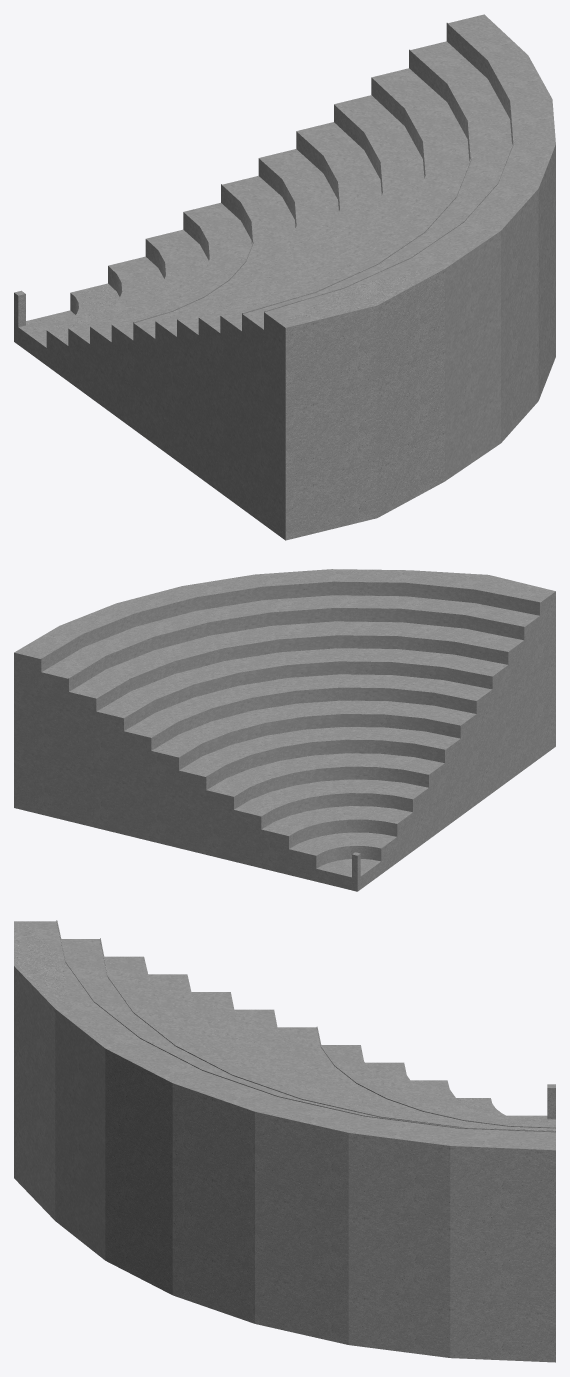
Rendered from SM_StairChairCorner-Reimp.fbx.
3 renders of one model, top to bottom at view 1: azimuth 30°, elevation 25°; view 2: azimuth 150°, elevation 25°; view 3: azimuth 270°, elevation 25°, orthographic. The views are drawn at different scales.
Visible parts, largest first — view 1: SM_StairChairCorner_LOD0; view 2: SM_StairChairCorner_LOD0; view 3: SM_StairChairCorner_LOD0.
Part boxes in pixels (x1,y1,x2,y2): SM_StairChairCorner_LOD0: [14, 14, 555, 540]; SM_StairChairCorner_LOD0: [14, 569, 555, 891]; SM_StairChairCorner_LOD0: [14, 920, 555, 1362].
Bounding box in the file's own units: 12.5 × 5.42 × 12.5.
